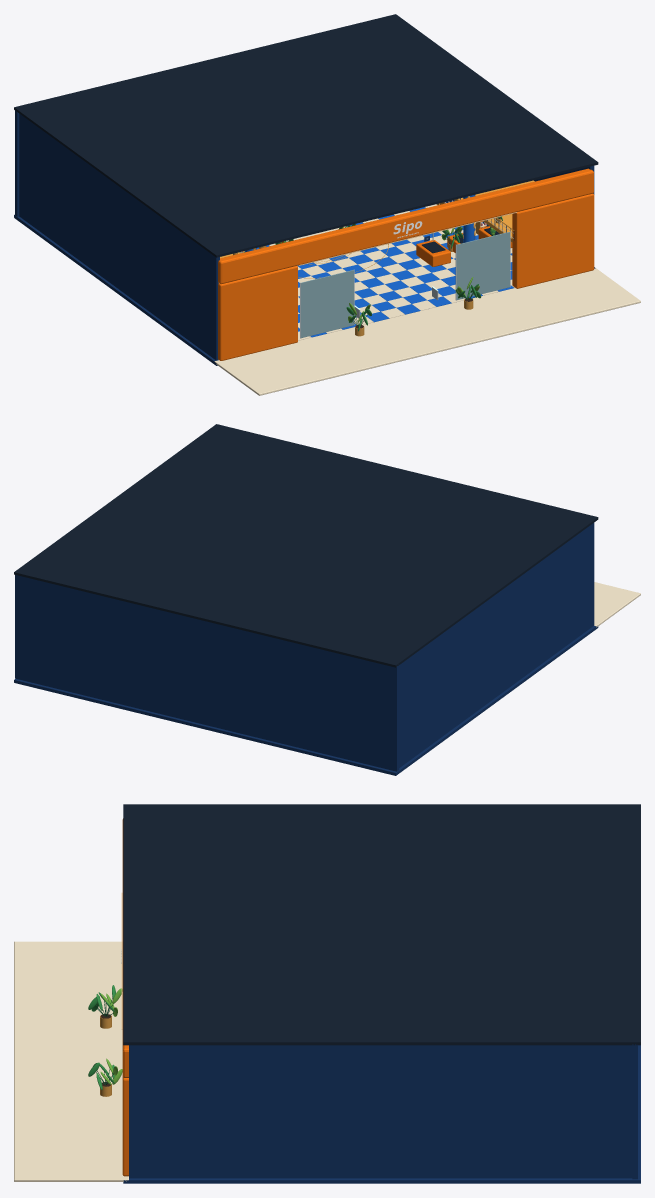
Rendered from SipoSupermarket.fbx.
3 views of the same model, one above another, from view 1: azimuth 30°, elevation 25°; view 2: azimuth 150°, elevation 25°; view 3: azimuth 270°, elevation 25° (orthographic). The views are drawn at different scales.
Visible parts, largest first — view 1: Architecture [0,0], Architecture [-3,0], Entrance [0,-4], Entrance [0,-3], Entrance [2,-3], Entrance [-3,-3], Entrance [-2,-3], Entrance [1,-3], Architecture [0,-2], Architecture [0,-3], Furniture [1,-2], Architecture [-1,-3] (+5 smaller); view 2: Architecture [0,0], Architecture [0,2], Architecture [-3,0], Entrance [0,-4]; view 3: Architecture [0,0], Architecture [3,0], Entrance [0,-4], Entrance [0,-3], Architecture [0,2], Entrance [2,-3].
Part boxes in pixels (x1,y1,x2,y2): Architecture [0,0]: (14,14,598,365); Architecture [-3,0]: (19,114,240,360); Entrance [0,-4]: (214,268,640,395); Entrance [0,-3]: (218,168,593,300); Entrance [2,-3]: (512,193,594,288); Entrance [-3,-3]: (218,266,297,360); Entrance [-2,-3]: (300,270,353,338); Entrance [1,-3]: (456,231,510,299); Architecture [0,-2]: (342,253,439,294); Architecture [0,-3]: (378,279,465,314); Furniture [1,-2]: (416,229,475,266); Architecture [-1,-3]: (341,295,404,329); Architecture [0,0]: (14,424,598,775); Architecture [0,2]: (15,575,399,771); Architecture [-3,0]: (399,523,594,767); Entrance [0,-4]: (594,582,640,627); Architecture [0,0]: (123,804,640,1183); Architecture [3,0]: (129,1045,632,1178); Entrance [0,-4]: (14,941,128,1181); Entrance [0,-3]: (121,818,128,1077); Architecture [0,2]: (632,1044,637,1179); Entrance [2,-3]: (122,1076,128,1176).
Size of the model in its own units: 4900 by 1358 by 5450.
